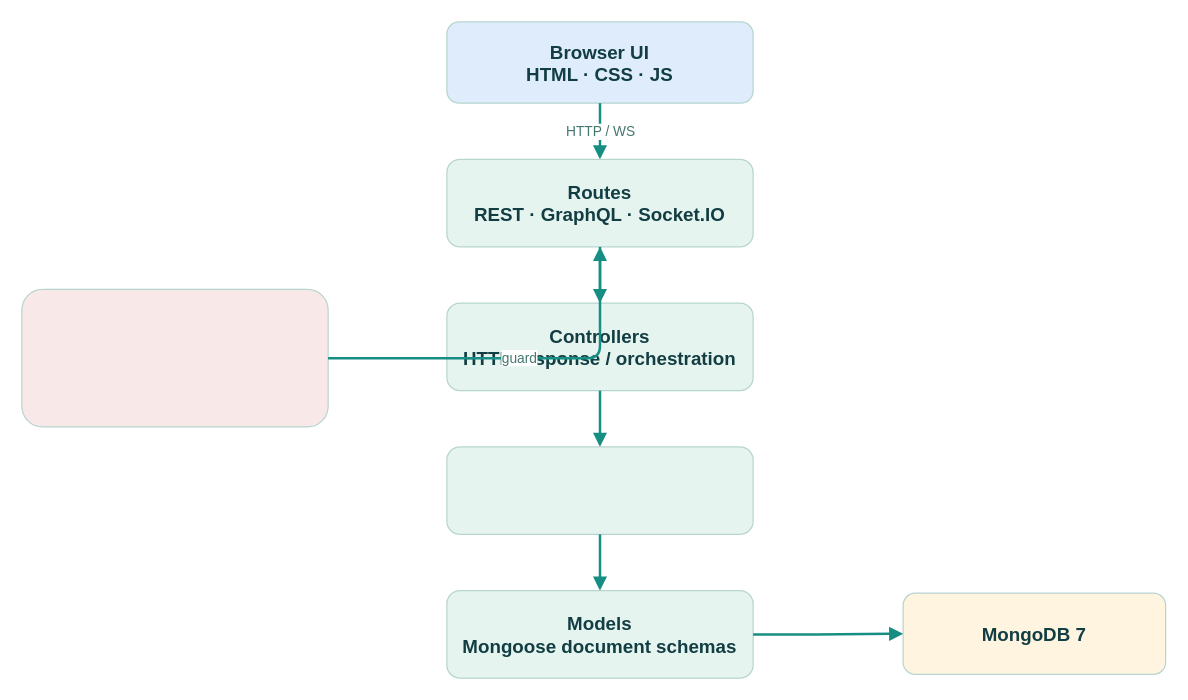
This 1188x700 diagram has some shape labels left out. The centre of each missing label's shape, as x and y in pixels:
"Cross-cutting middleware JWT · RBAC · Validation CSRF · Rate Limits · CSP" belongs at (x=174, y=357).
"Services Claims · Matching · Notifications" belongs at (x=599, y=490).
